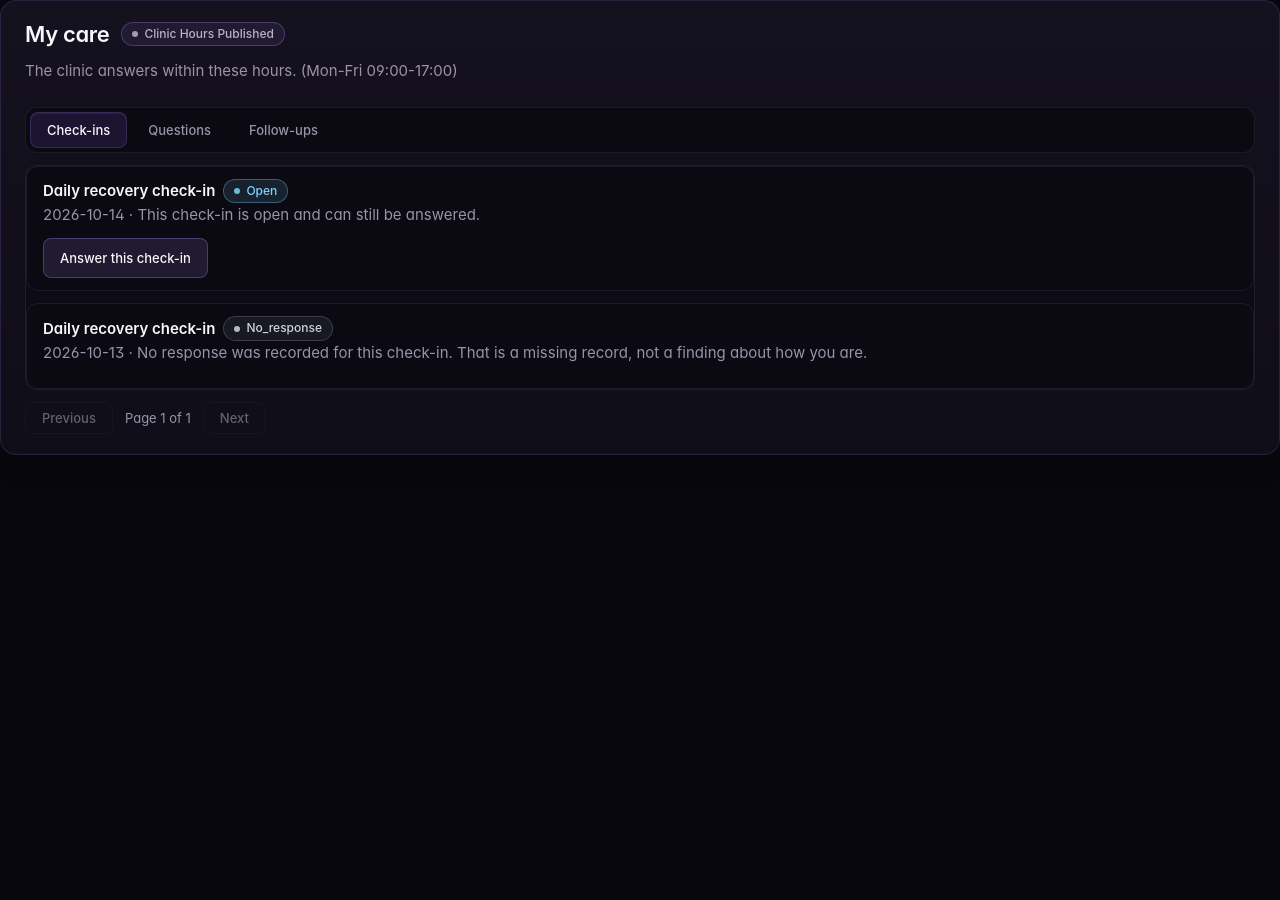
Scenario: MyCare › lists only the answerable check-ins with a form and posts the answers
Expected: the text "The clinic answers within these hours. (Mon-Fri 09:00-17:00)" is shown, [25,61,458,80]
Expected: the text "That is a missing record, not a finding" is shown, [137,343,867,362]
Click the button "Answer this check-in": click(125, 258) [43,238,208,278]
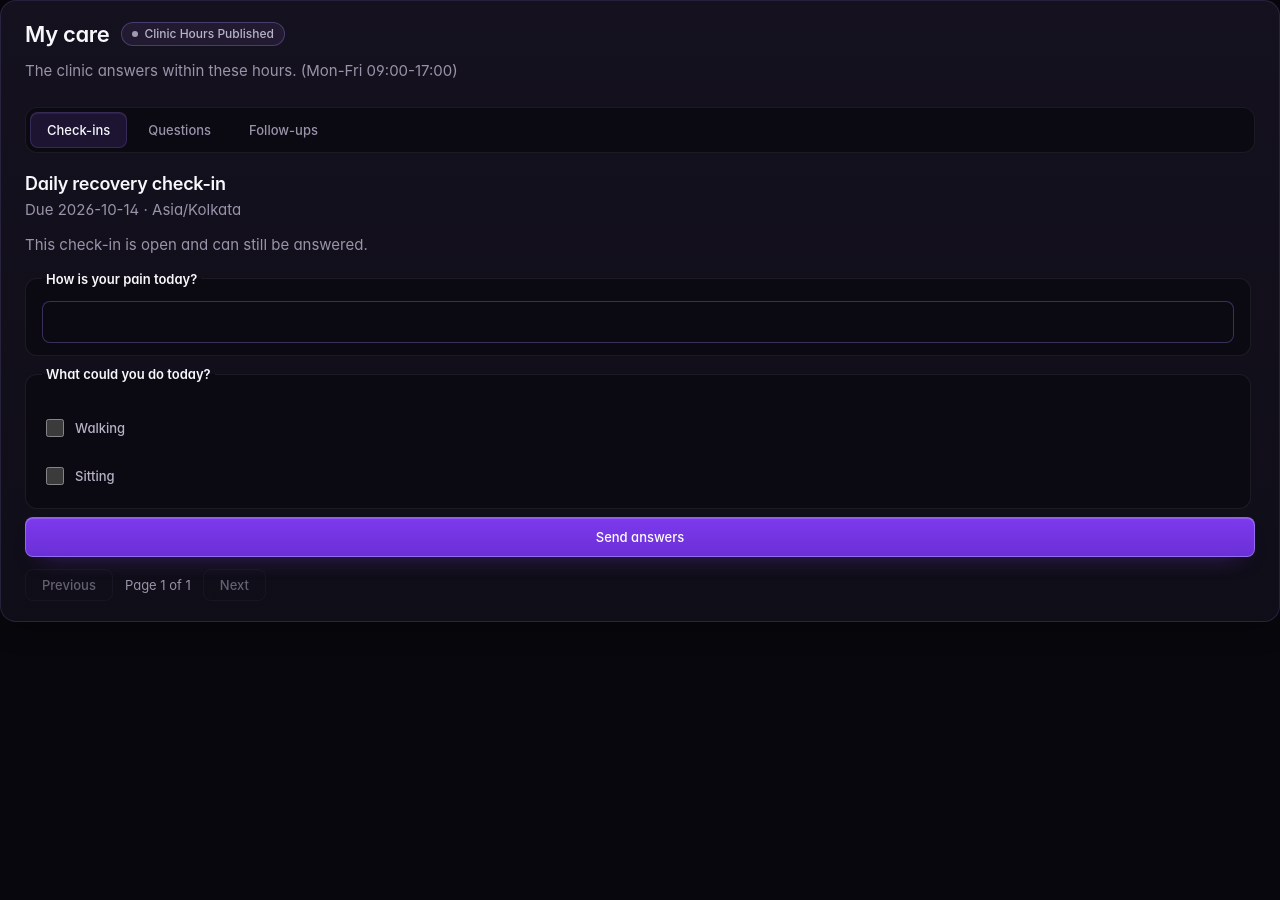
In the number field named "How is your pain today?": (638, 322) [42,301,1234,343], type "3"
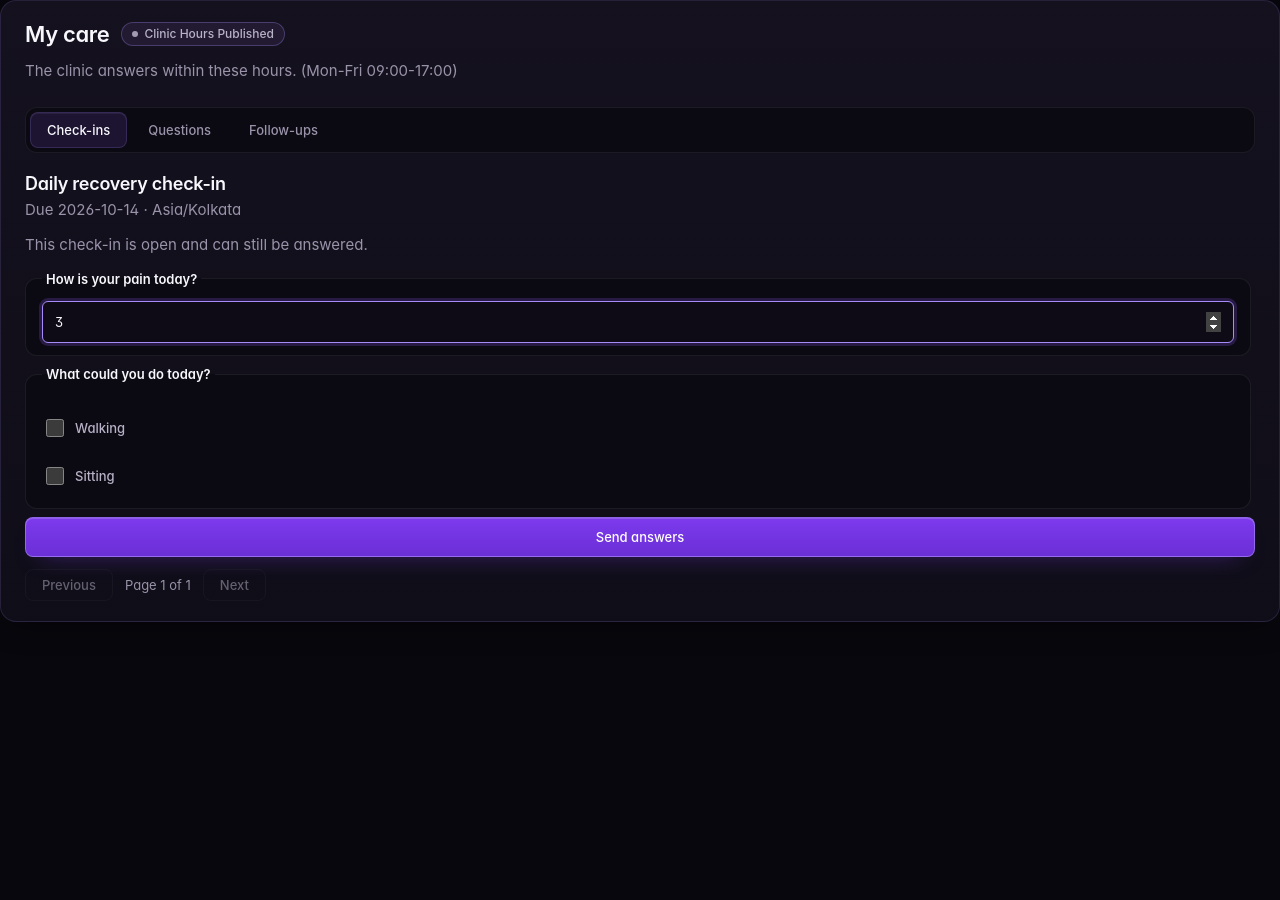
Click the checkbox labelled "Walking": click(55, 428) [46,419,64,437]
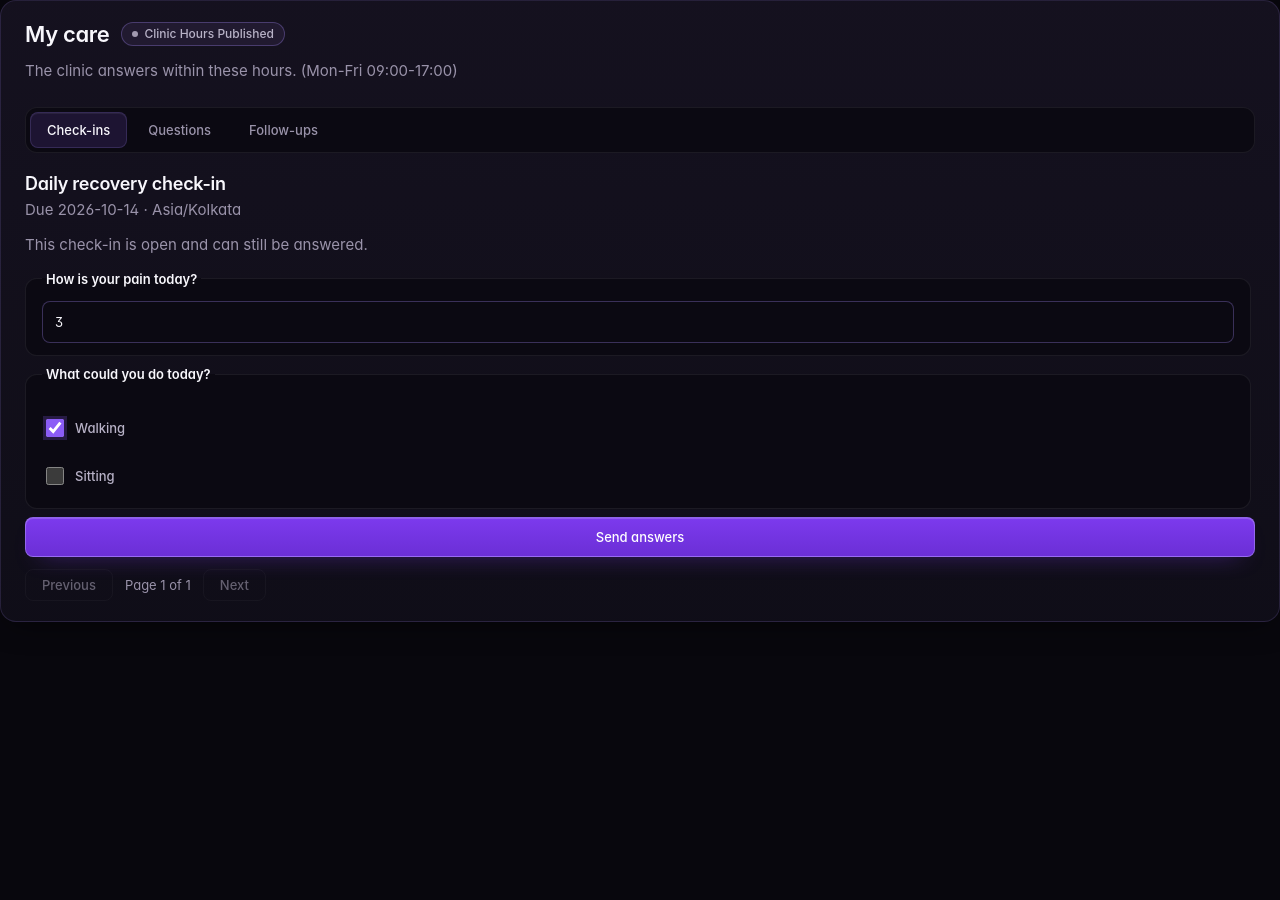
Click the button "Send answers": click(640, 537) [25,517,1255,557]
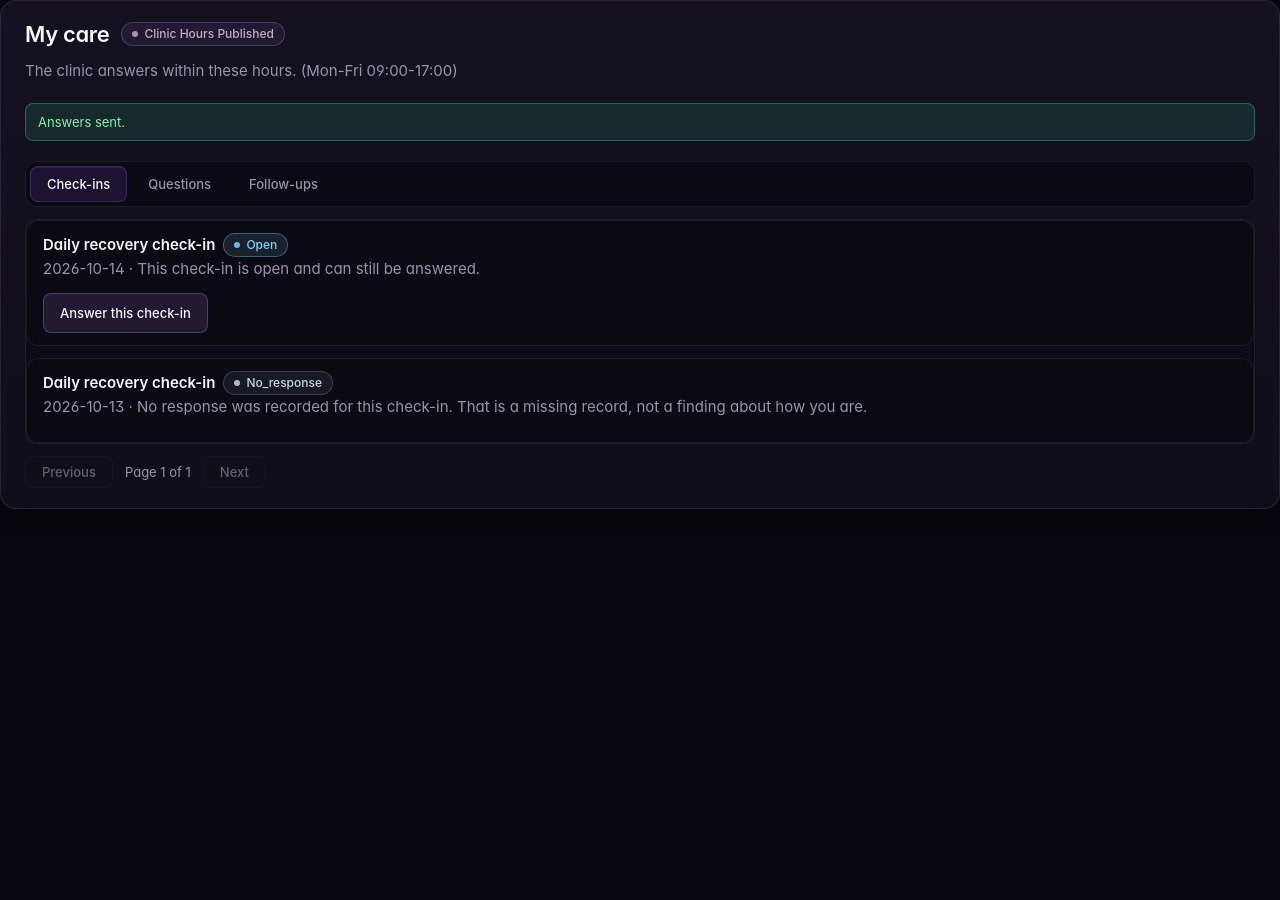
Now the text "Answers sent." is shown, box [25,103,1255,141]
